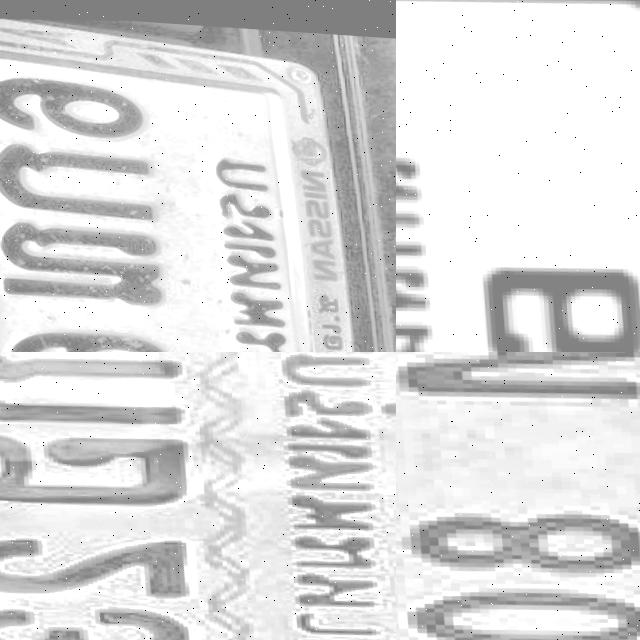license-plate: (0, 0, 394, 352), (0, 352, 396, 640), (396, 0, 640, 352), (396, 352, 640, 640)
